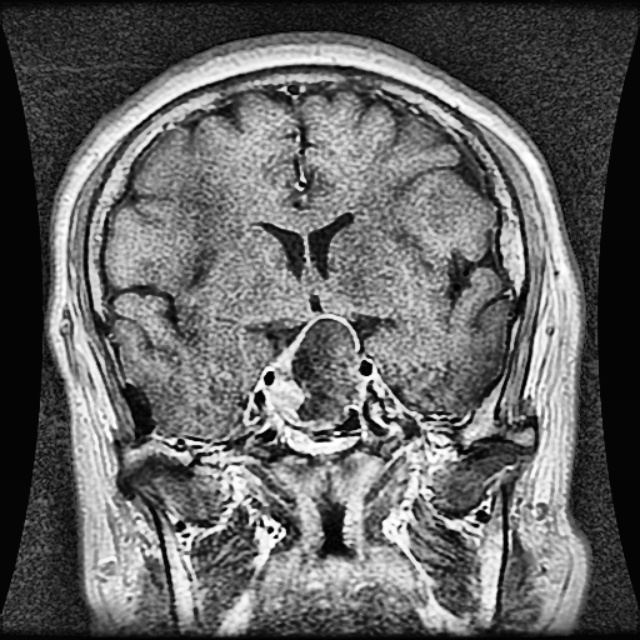Pituitary: (278, 312, 363, 429)
